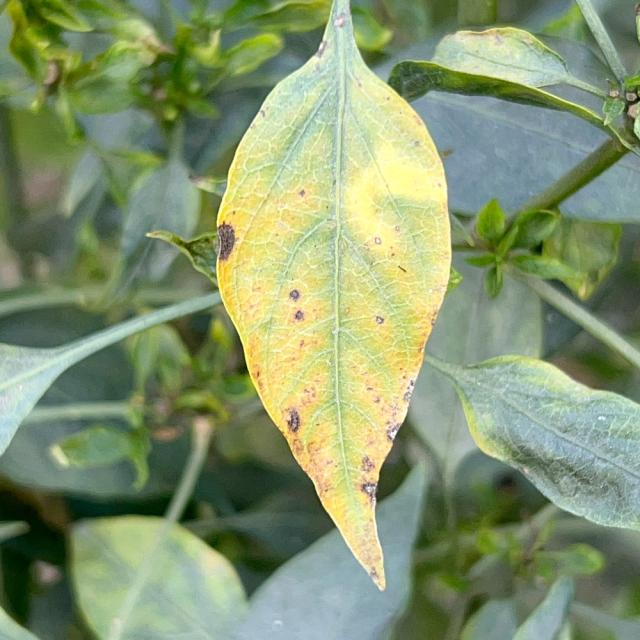Chilli_Bacterial_Spot: (212, 4, 454, 592), (271, 213, 413, 500), (278, 218, 411, 340), (214, 220, 238, 264), (284, 285, 308, 327), (282, 404, 304, 436), (331, 11, 349, 31), (285, 286, 303, 305), (289, 307, 307, 325), (406, 136, 424, 152), (294, 185, 310, 202), (371, 312, 387, 328), (370, 233, 384, 250)
